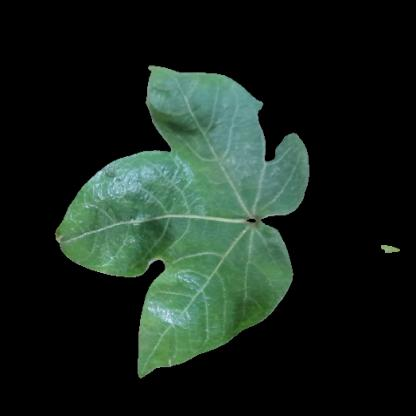healthy: (168, 113, 250, 333), (96, 159, 166, 256), (255, 153, 307, 209), (141, 336, 183, 366)
